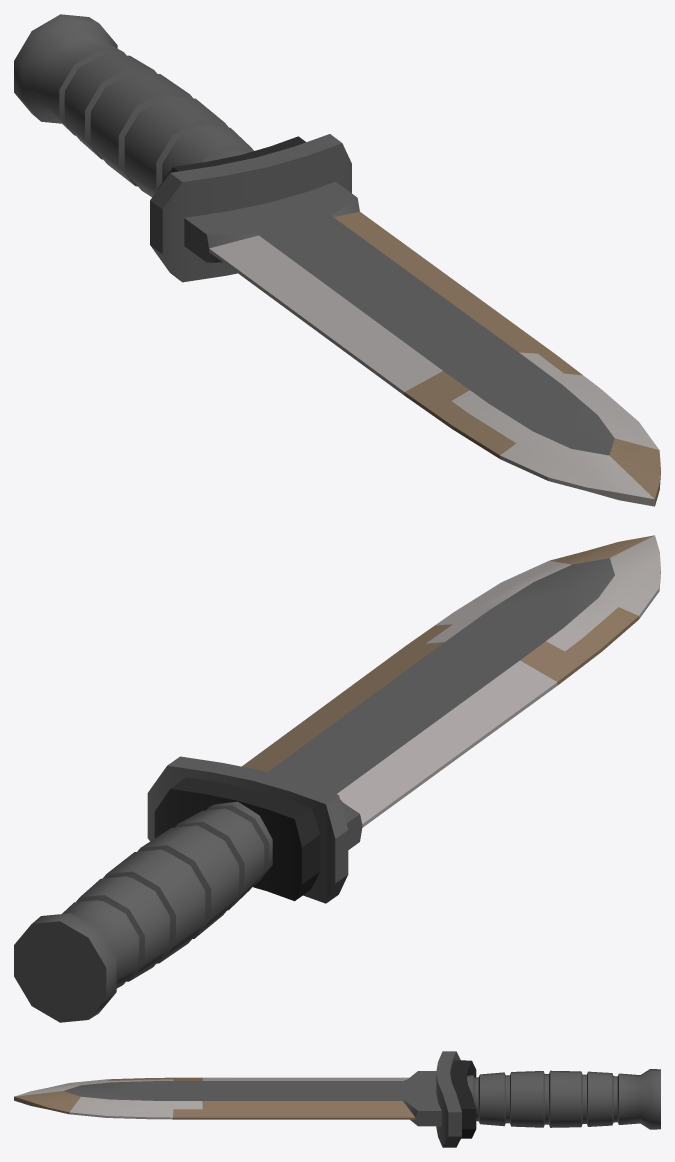
The model's file is Knife.glb.
3 renders of one model, top to bottom at view 1: azimuth 30°, elevation 25°; view 2: azimuth 150°, elevation 25°; view 3: azimuth 270°, elevation 25°, orthographic. The views are drawn at different scales.
Visible parts, largest first — view 1: Knife; view 2: Knife; view 3: Knife.
Part boxes in pixels (bbox=[...]): Knife: bbox=[14, 14, 660, 506]; Knife: bbox=[14, 535, 660, 1022]; Knife: bbox=[14, 1051, 660, 1147].
Size of the model in its own units: 0.1506 by 0.0788 by 0.821.
Materials: 1 (1 with a texture image).
